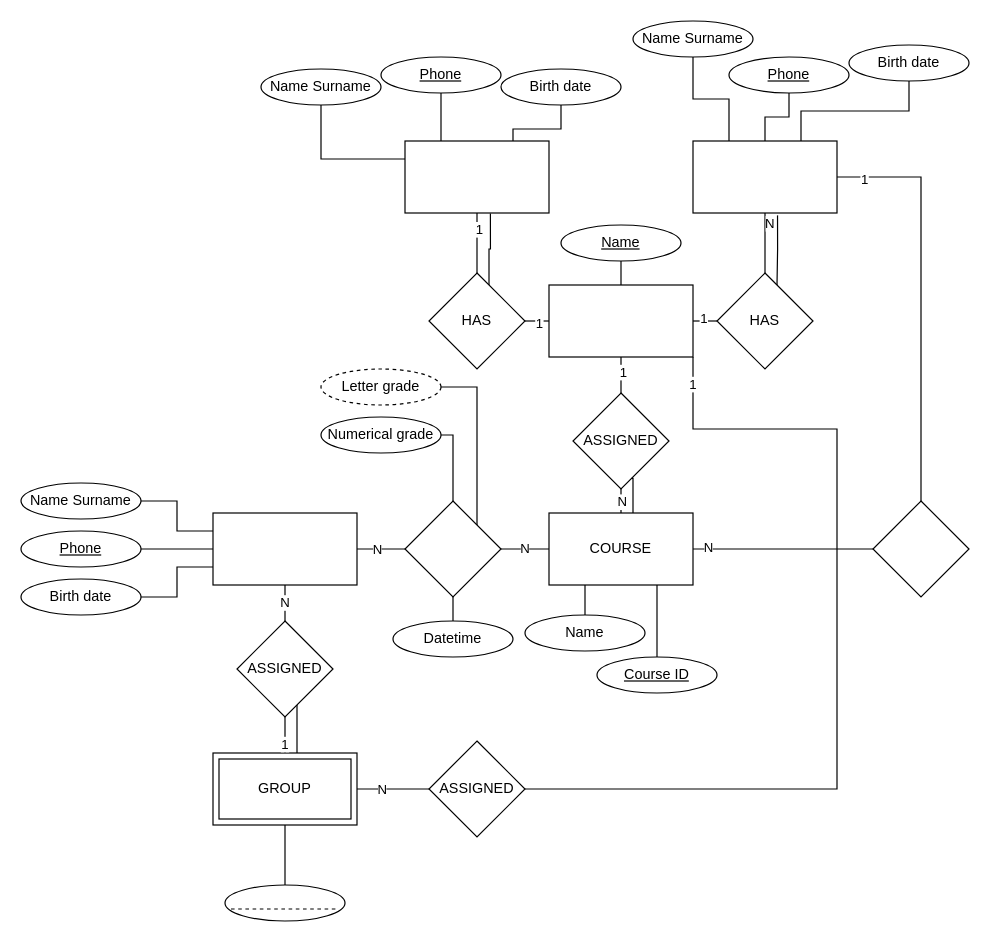
Some shapes in this 990 by 942 pixel diagram are drawn without their labels. The shapes that lost their labels are listed below. From the top down, each one's centre as x and y in pixels, then its label:
the point at 476,176: DIRECTOR
the point at 764,176: PROFESSOR
the point at 620,320: FACULTY
the point at 284,548: STUDENT
the point at 452,548: ATTEMPT TO PASS
the point at 920,548: TEACH
the point at 284,902: Group number
